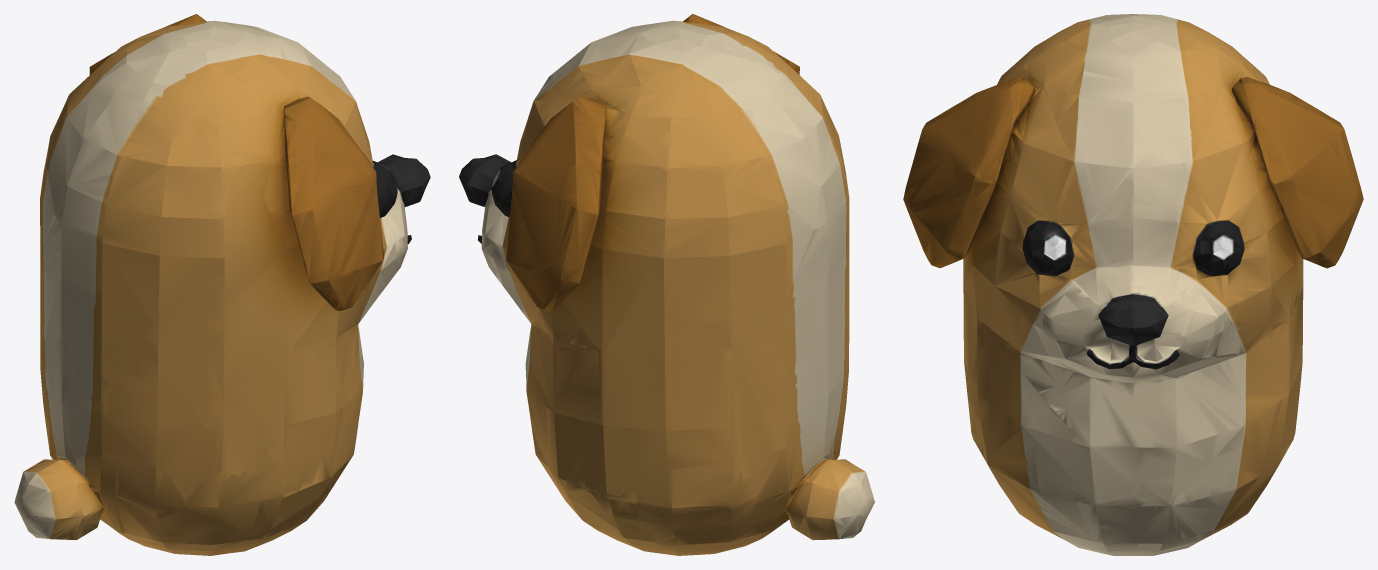
File: dog_v3.fbx
3 renders of one model, left to right at view 1: azimuth 30°, elevation 25°; view 2: azimuth 150°, elevation 25°; view 3: azimuth 270°, elevation 25°, orthographic. The views are drawn at different scales.
Visible parts, largest first — view 1: tripo_node_426fcc5f; view 2: tripo_node_426fcc5f; view 3: tripo_node_426fcc5f.
Boxes of the visible parts, x1,y1,x2,y2 form: tripo_node_426fcc5f: (14,14,430,555); tripo_node_426fcc5f: (459,14,874,555); tripo_node_426fcc5f: (903,14,1363,555).
Bounding box in the file's own units: 84.68 × 97.91 × 81.35.
